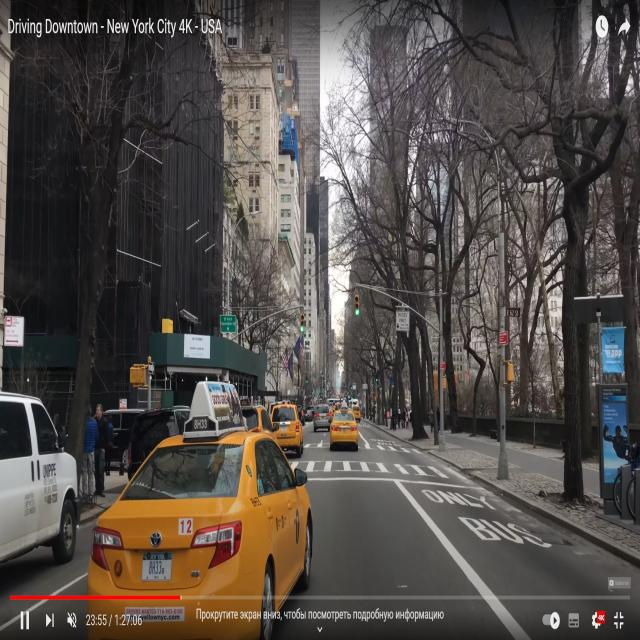Crosswalk: (293, 456, 453, 478)
